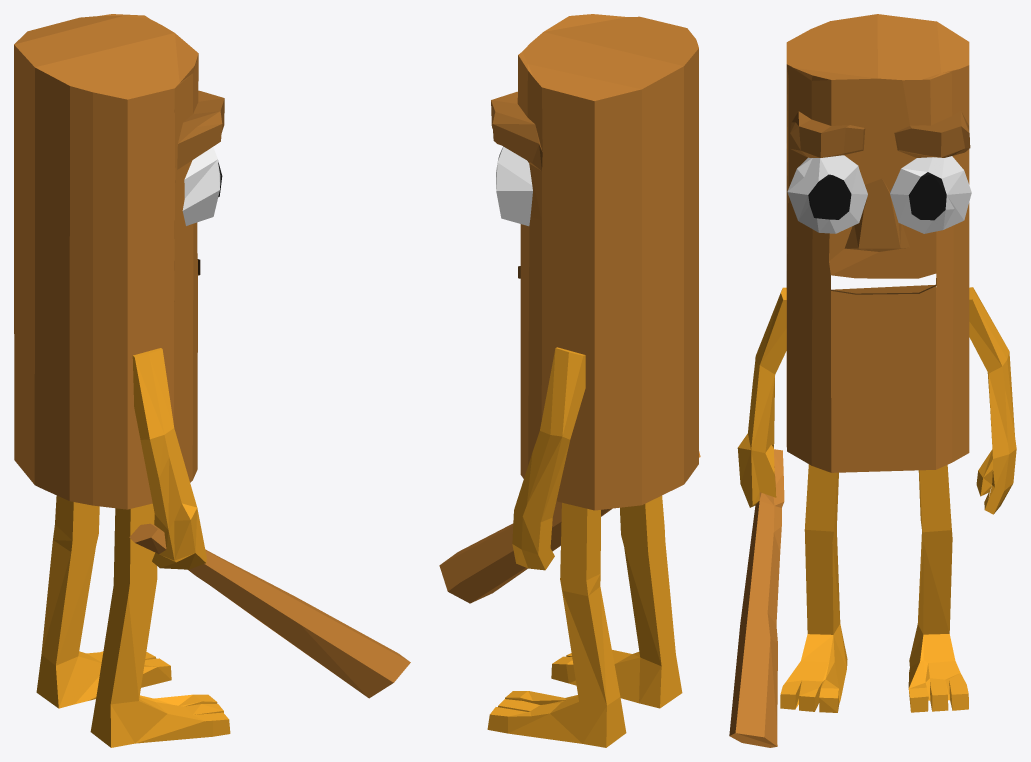
Rendered from tung_tung_tung_sahur.glb.
3 views of the same model, side by side, from view 1: azimuth 30°, elevation 25°; view 2: azimuth 150°, elevation 25°; view 3: azimuth 270°, elevation 25° (orthographic). The views are drawn at different scales.
Visible parts, largest first — view 1: Tung Tung Tung Sahur; view 2: Tung Tung Tung Sahur; view 3: Tung Tung Tung Sahur.
Boxes of the visible parts, x1,y1,x2,y2 form: Tung Tung Tung Sahur: [14, 14, 410, 747]; Tung Tung Tung Sahur: [439, 14, 700, 747]; Tung Tung Tung Sahur: [729, 14, 1016, 747].
Size of the model in its own units: 0.4787 by 0.9998 by 0.4142.
